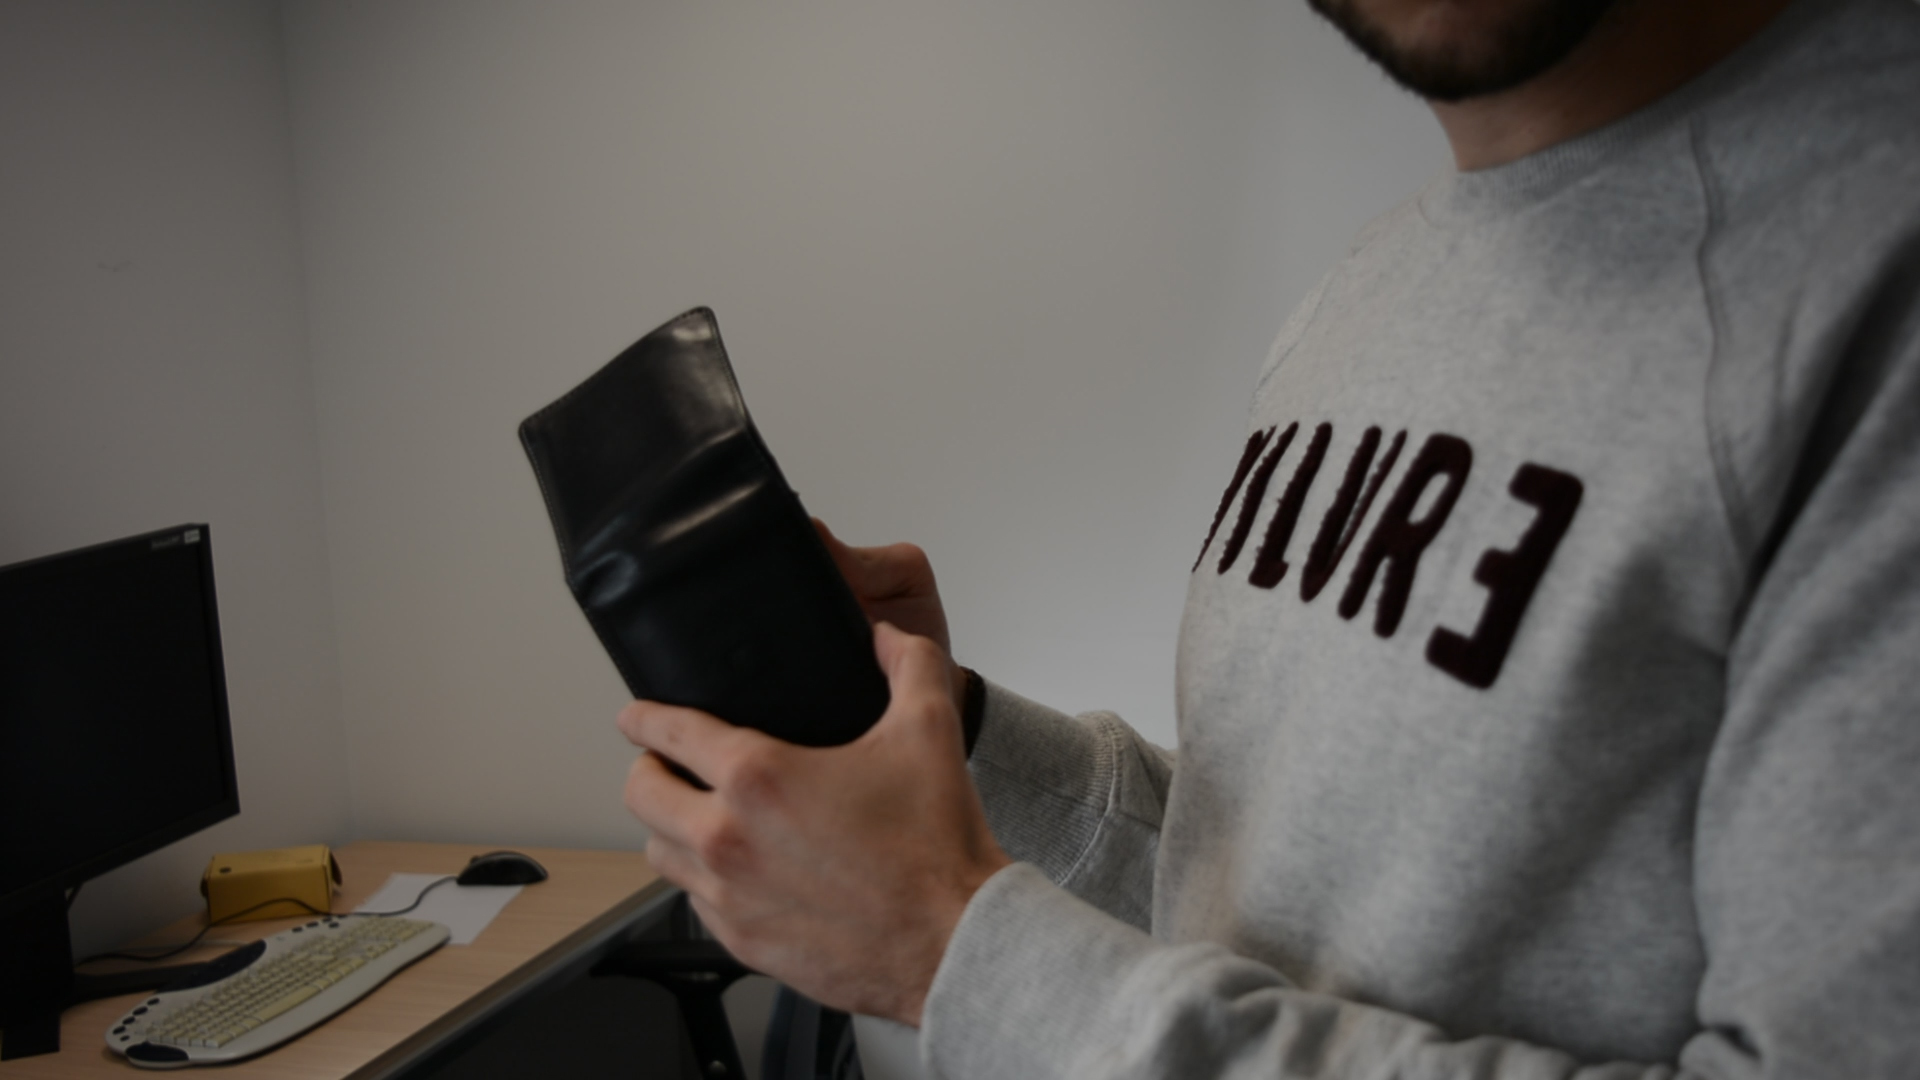monedero: (516, 303, 894, 799)
